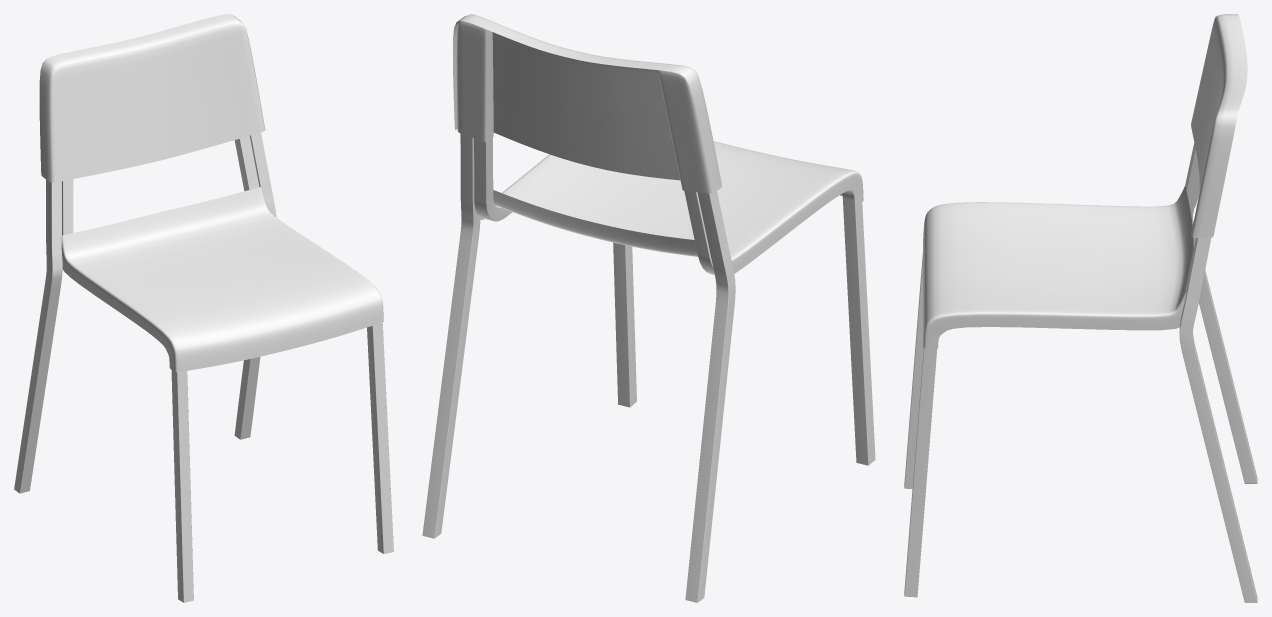
File: chair_27.001.fbx
The picture shows the model from 3 angles, left to right: view 1: azimuth 30°, elevation 25°; view 2: azimuth 150°, elevation 25°; view 3: azimuth 270°, elevation 25°; orthographic projection. The views are drawn at different scales.
Parts seen in each view (by area): view 1: chair_27.001; view 2: chair_27.001; view 3: chair_27.001.
Boxes of the visible parts, box(x1,y1,x2,y2) form: chair_27.001: box(14, 14, 393, 602); chair_27.001: box(422, 14, 875, 602); chair_27.001: box(904, 14, 1257, 602).
Size of the model in its own units: 44.84 by 80.18 by 53.69.
1 material, 1 textured.
